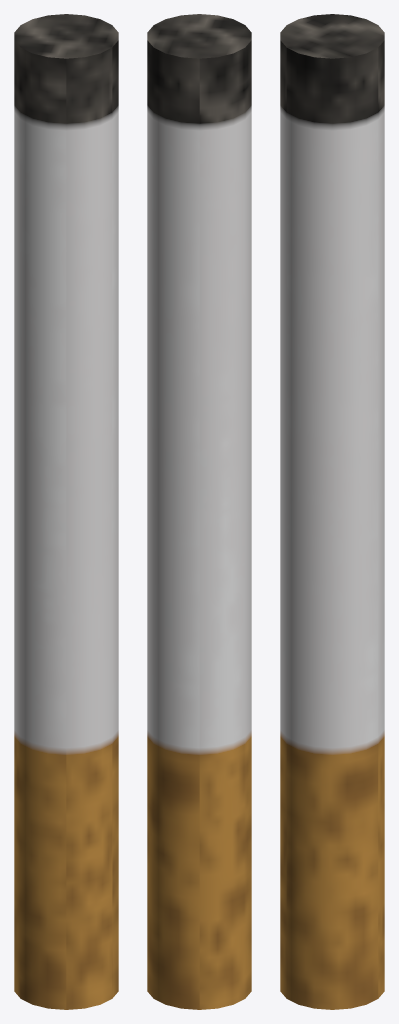
File: Cig002.FBX
3 renders of one model, left to right at view 1: azimuth 30°, elevation 25°; view 2: azimuth 210°, elevation 25°; view 3: azimuth 270°, elevation 25°, orthographic.
Parts seen in each view (by area): view 1: Cylinder004; view 2: Cylinder004; view 3: Cylinder004.
Boxes of the visible parts, left/top/right/bottom form: Cylinder004: left=14, top=14, right=118, bottom=1009; Cylinder004: left=147, top=14, right=251, bottom=1009; Cylinder004: left=280, top=14, right=384, bottom=1009.
Size of the model in its own units: 2.01 by 19.97 by 1.98.
